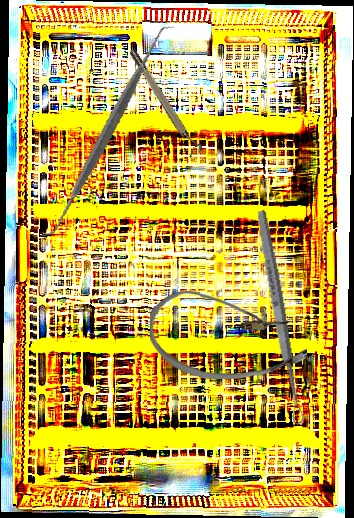Cannula: (149, 290, 308, 381)
Fixation Ring: (127, 44, 205, 160)
Spatula Surgical: (2, 25, 212, 238)
Surgical Spoon: (254, 209, 306, 426)
